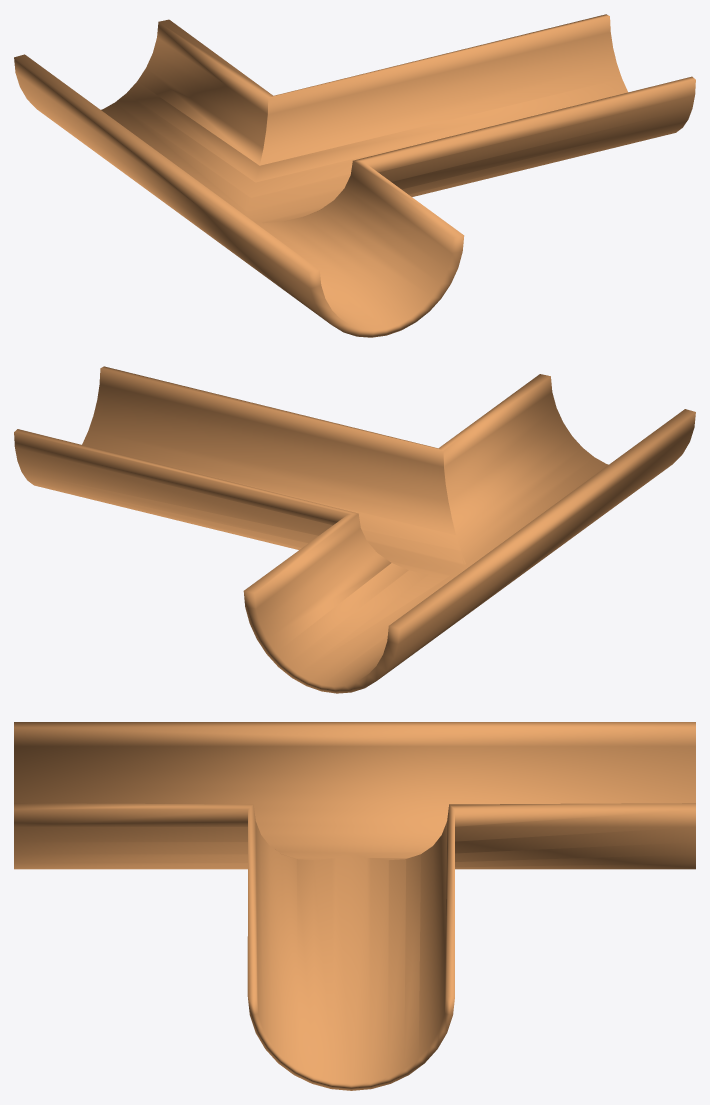
File: WAY T .fbx
3 renders of one model, top to bottom at view 1: azimuth 30°, elevation 25°; view 2: azimuth 150°, elevation 25°; view 3: azimuth 270°, elevation 25°, orthographic. The views are drawn at different scales.
Visible parts, largest first — view 1: Sphere.002; view 2: Sphere.002; view 3: Sphere.002.
Boxes of the visible parts, left/top/right/bottom form: Sphere.002: left=14, top=14, right=695, bottom=337; Sphere.002: left=14, top=366, right=695, bottom=693; Sphere.002: left=14, top=722, right=695, bottom=1090.
Bounding box in the file's own units: 2968 × 478 × 3107.
